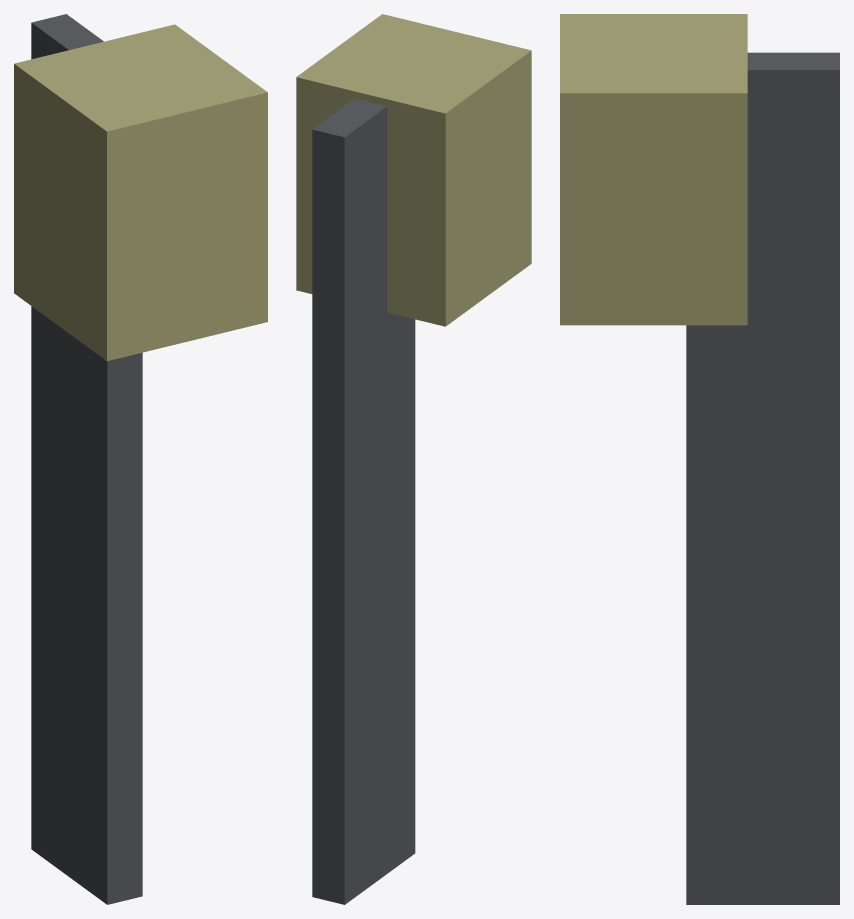
The model's file is bh_traditional_traditional_lamp_01_lod0.glb.
3 views of the same model, side by side, from view 1: azimuth 30°, elevation 25°; view 2: azimuth 150°, elevation 25°; view 3: azimuth 270°, elevation 25° (orthographic). The views are drawn at different scales.
Parts seen in each view (by area): view 1: bh_traditional_traditional_lamp_01_lantern, bh_traditional_traditional_lamp_01_bracket; view 2: bh_traditional_traditional_lamp_01_bracket, bh_traditional_traditional_lamp_01_lantern; view 3: bh_traditional_traditional_lamp_01_bracket, bh_traditional_traditional_lamp_01_lantern.
Boxes of the visible parts, box(x1,y1,x2,y2) form: bh_traditional_traditional_lamp_01_lantern: box(14, 24, 267, 361); bh_traditional_traditional_lamp_01_bracket: box(31, 14, 142, 904); bh_traditional_traditional_lamp_01_bracket: box(312, 98, 415, 904); bh_traditional_traditional_lamp_01_lantern: box(296, 14, 531, 326); bh_traditional_traditional_lamp_01_bracket: box(686, 52, 839, 904); bh_traditional_traditional_lamp_01_lantern: box(560, 14, 747, 325).
Bounding box in the file's own units: 0.55 × 2.72 × 0.82.
